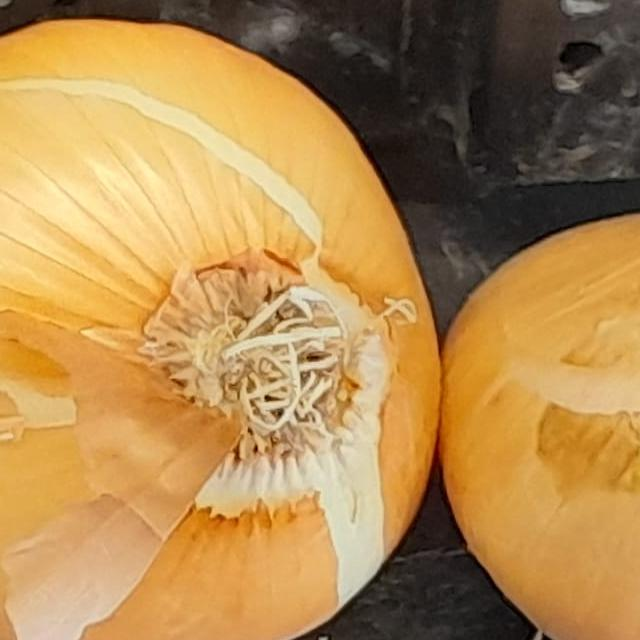onion: (0, 0, 447, 640), (435, 130, 640, 640)
